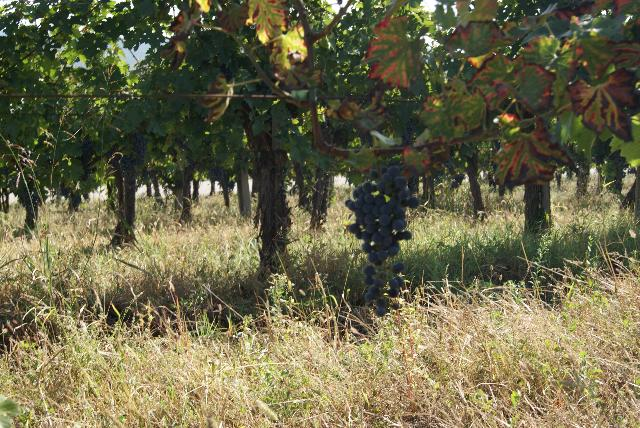grapes: (345, 166, 420, 316)
